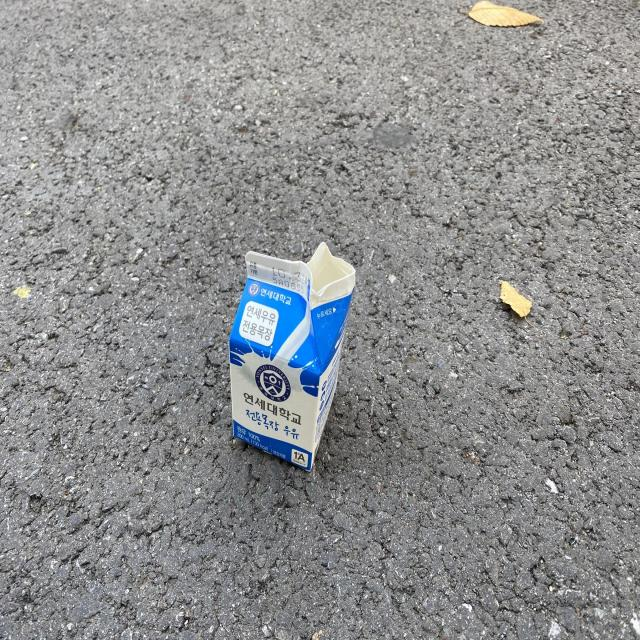paperpack: (229, 242, 356, 471)
